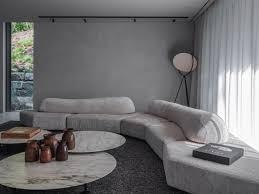sofa: (20, 93, 259, 194)
table: (0, 150, 119, 193), (47, 130, 127, 154), (0, 126, 54, 155)
